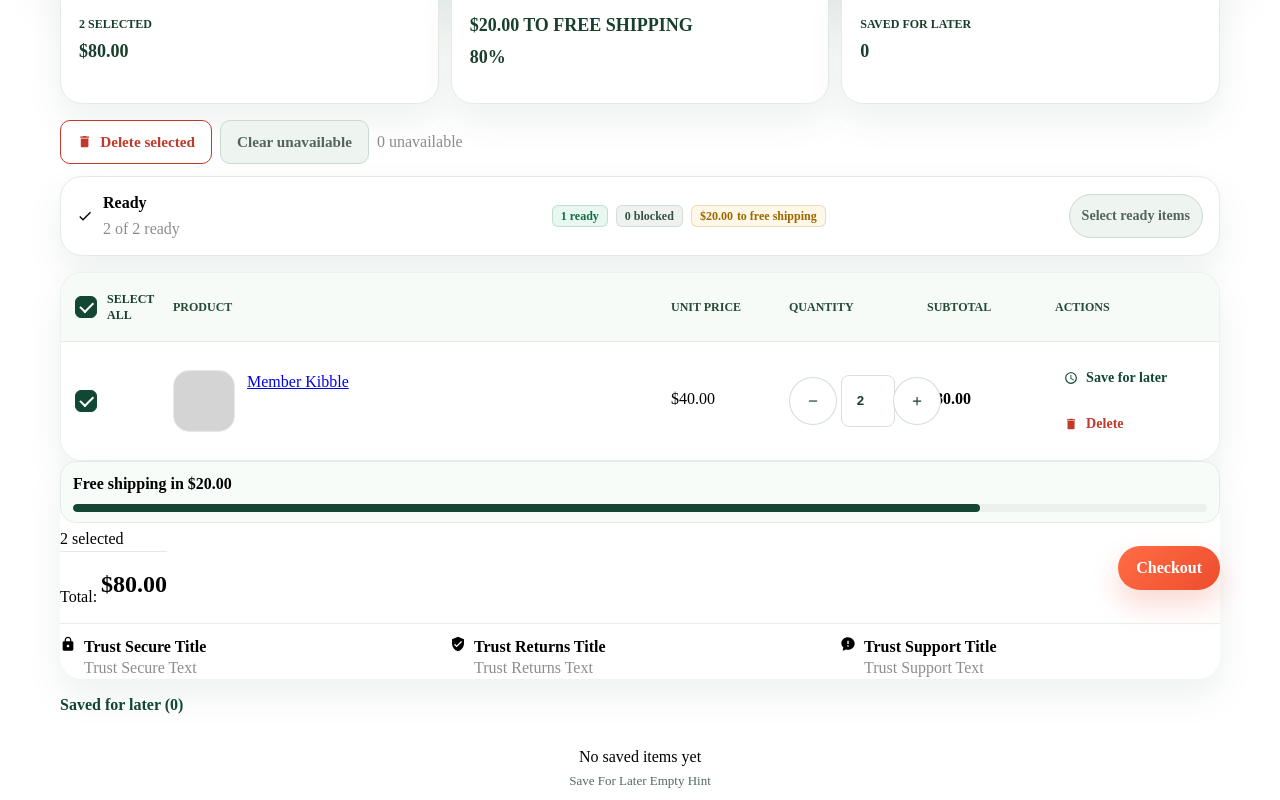
Scenario: cart to checkout flows › allows quantity input to stay empty until blur applies the fallback
(page scrolled)
Step 1. Clear the number field → coordinates (868, 401), box [841,375,895,427]
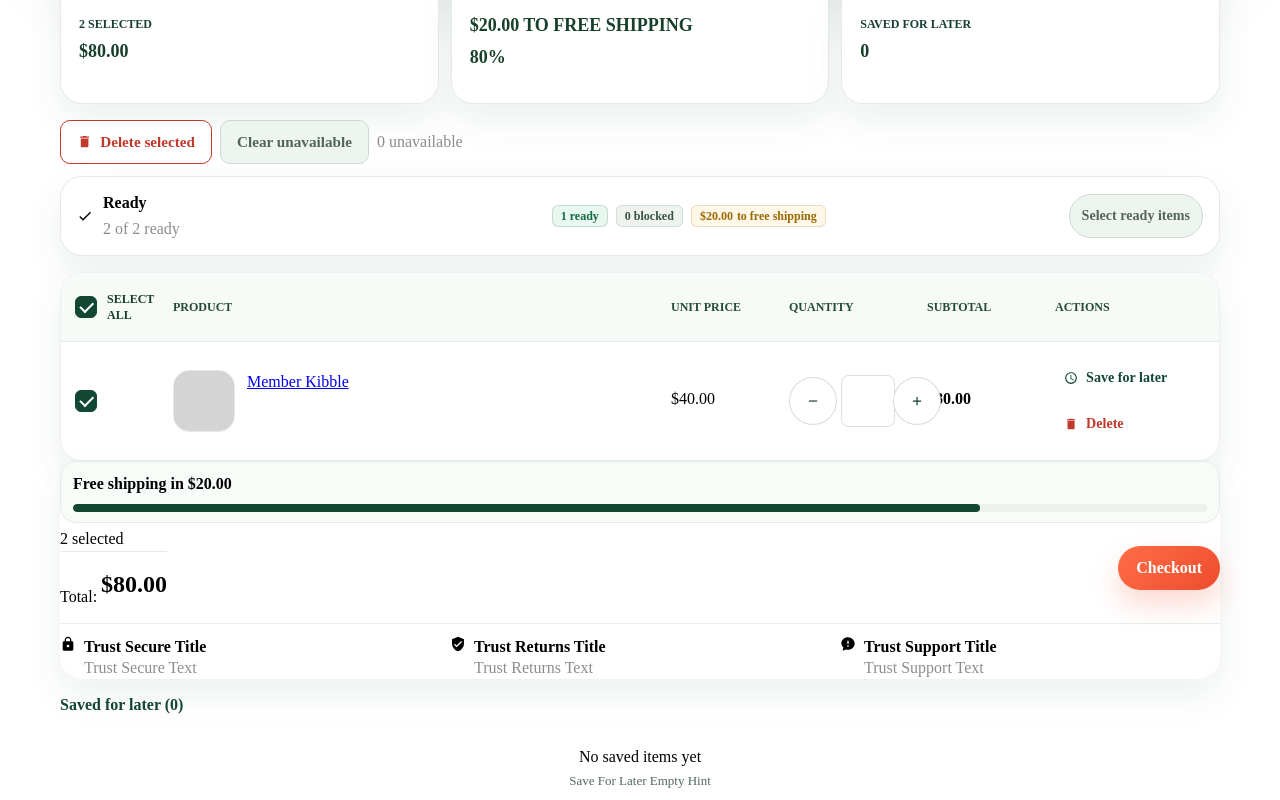
Step 2. Leave the number field, box [841,375,895,427]
Wait 350 ms
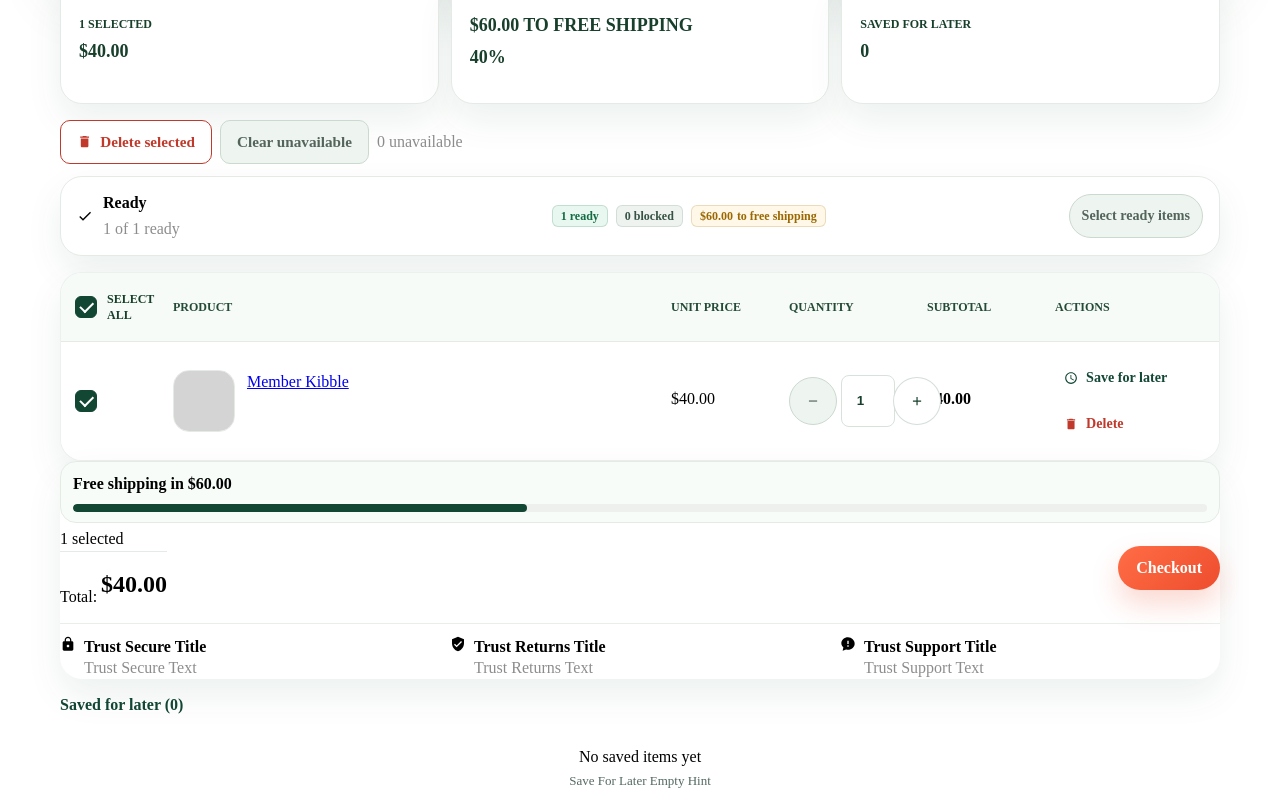
Check: the number field holds "1", box [841,375,895,427]
